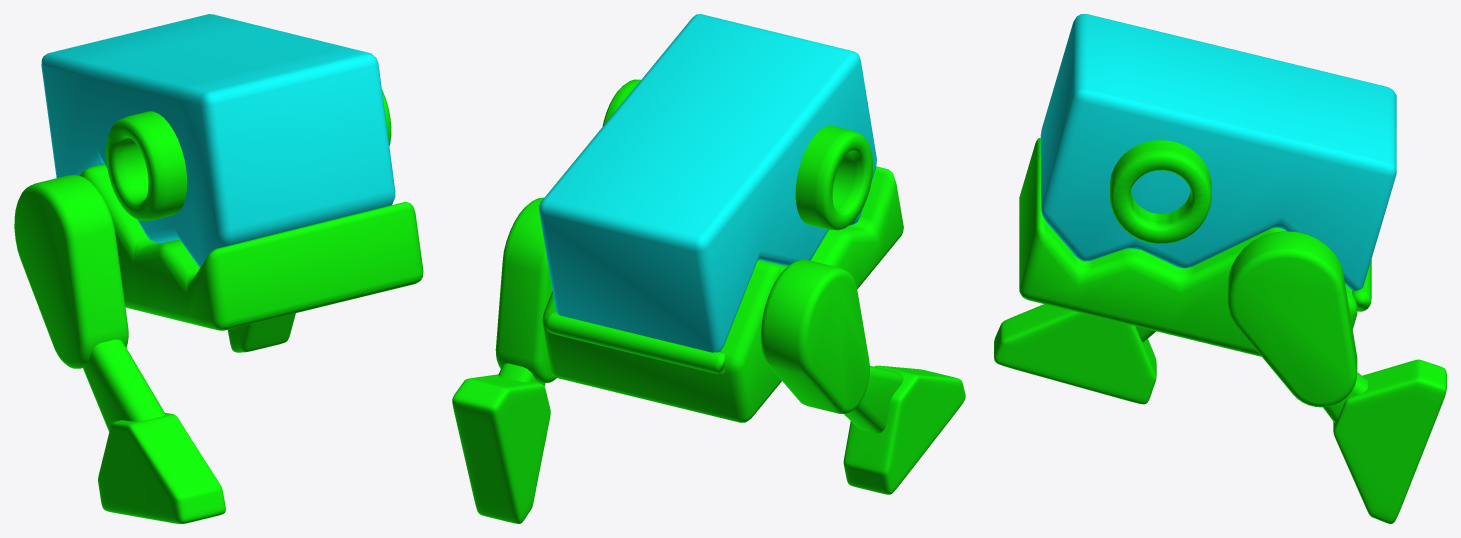
The picture shows the model from 3 angles, left to right: view 1: azimuth 30°, elevation 25°; view 2: azimuth 150°, elevation 25°; view 3: azimuth 270°, elevation 25°; orthographic projection. The views are drawn at different scales.
Parts seen in each view (by area): view 1: Top_Jaw, Lower_Jaw, Thighs_Left, Feet_Left, Eyes, Shin_Left, Feet_Right; view 2: Top_Jaw, Lower_Jaw, Thighs_Left, Feet_Right, Feet_Left, Thighs_Right, Eyes, Hinge, Shin_Left; view 3: Top_Jaw, Lower_Jaw, Thighs_Right, Feet_Right, Feet_Left, Eyes, Shin_Right.
Part boxes in pixels (bbox=[...]): Top_Jaw: bbox=[41, 14, 395, 267]; Lower_Jaw: bbox=[79, 164, 423, 330]; Thighs_Left: bbox=[14, 175, 128, 368]; Feet_Left: bbox=[98, 413, 225, 523]; Eyes: bbox=[106, 90, 391, 220]; Shin_Left: bbox=[83, 339, 165, 431]; Feet_Right: bbox=[227, 313, 295, 352]; Top_Jaw: bbox=[539, 14, 876, 352]; Lower_Jaw: bbox=[542, 166, 903, 422]; Thighs_Left: bbox=[761, 260, 869, 413]; Feet_Right: bbox=[452, 374, 550, 523]; Feet_Left: bbox=[843, 365, 965, 494]; Thighs_Right: bbox=[495, 197, 556, 383]; Eyes: bbox=[602, 79, 873, 230]; Hinge: bbox=[546, 312, 726, 373]; Shin_Left: bbox=[844, 366, 903, 433]; Top_Jaw: bbox=[1040, 14, 1396, 290]; Lower_Jaw: bbox=[1019, 138, 1357, 356]; Thighs_Right: bbox=[1227, 231, 1357, 407]; Feet_Right: bbox=[1333, 359, 1446, 523]; Feet_Left: bbox=[994, 304, 1156, 404]; Eyes: bbox=[1110, 140, 1211, 244]; Shin_Right: bbox=[1323, 372, 1367, 422].
Bounding box in the file's own units: 2.03 × 2.66 × 2.7.
